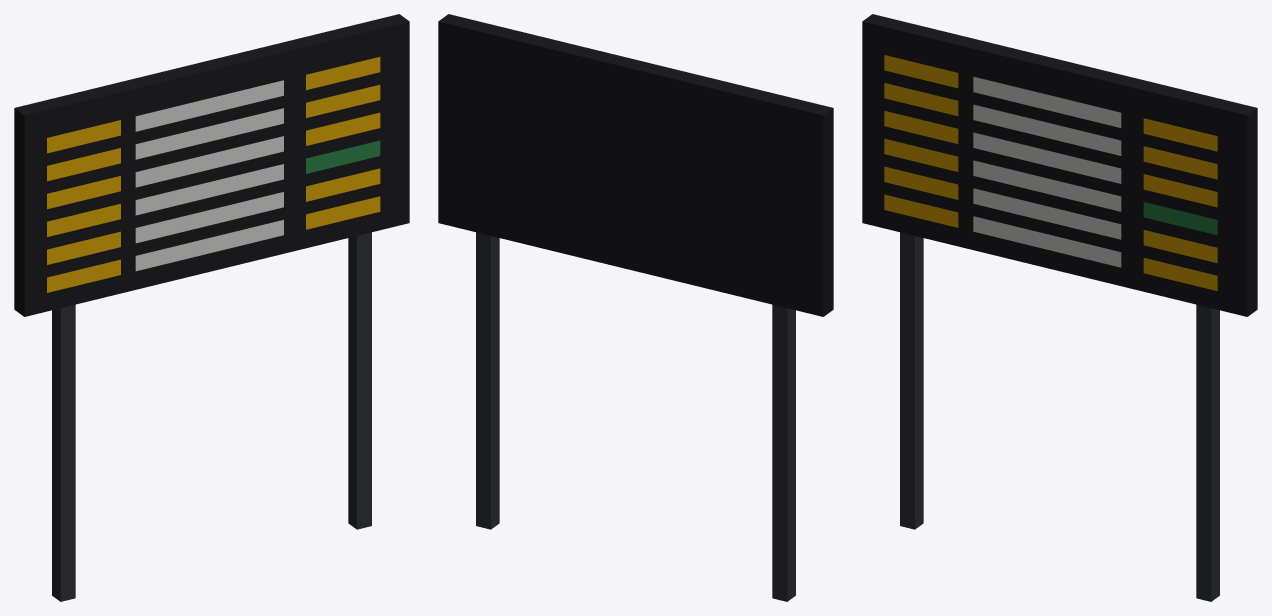
File: prop_flight-board.glb
The picture shows the model from 3 angles, left to right: view 1: azimuth 30°, elevation 25°; view 2: azimuth 150°, elevation 25°; view 3: azimuth 330°, elevation 25°; orthographic projection.
Parts seen in each view (by area): view 1: body; view 2: body; view 3: body.
Boxes of the visible parts, bbox=[...] form: body: bbox=[14, 14, 409, 601]; body: bbox=[438, 14, 833, 601]; body: bbox=[862, 14, 1257, 601].
Bounding box in the file's own units: 2.6 × 3.2 × 0.121.
